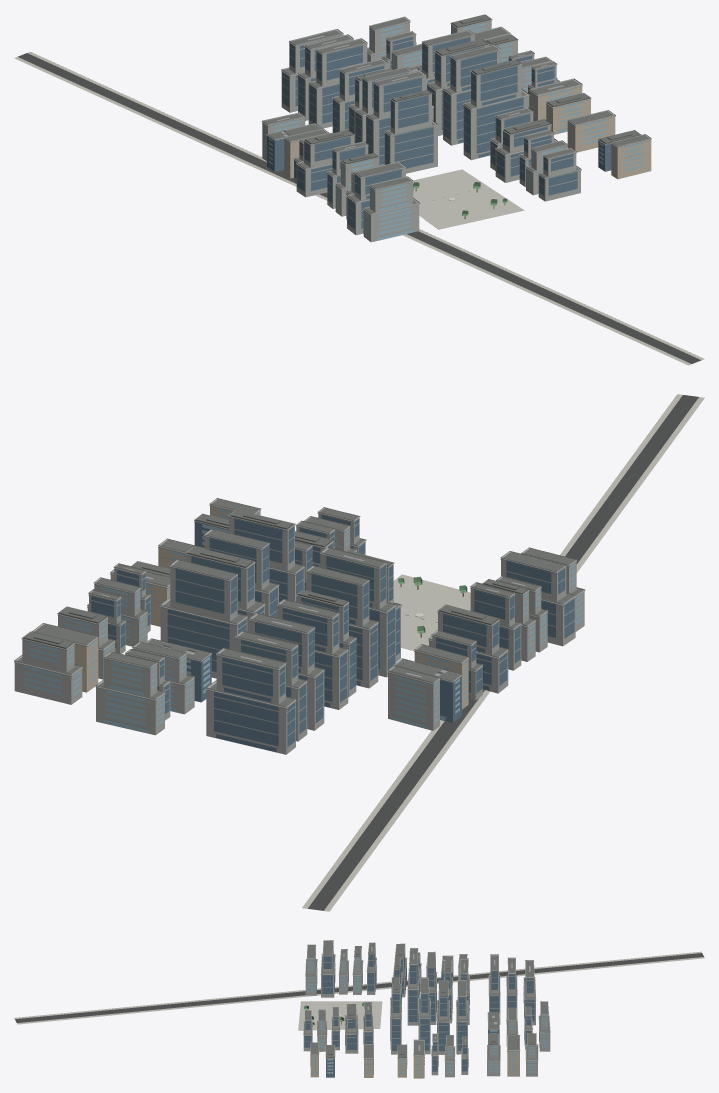
The model's file is tile-p001-m001.glb.
The picture shows the model from 3 angles, top to bottom: view 1: azimuth 30°, elevation 25°; view 2: azimuth 150°, elevation 25°; view 3: azimuth 270°, elevation 25°; orthographic projection. The views are drawn at different scales.
Visible parts, largest first — view 1: road-radial-1-3-mesh-1, plaza-block-218-mesh-2, road-radial-1-3-mesh-0, building-0936-mesh-286, building-0870-mesh-150, building-0936-mesh-292, building-0823-mesh-7, building-1000-mesh-345, building-0998-mesh-335, building-0875-mesh-191, building-0870-mesh-156, building-0935-mesh-281 (+17 smaller); view 2: road-radial-1-3-mesh-1, road-radial-1-3-mesh-0, building-0873-mesh-161, plaza-block-218-mesh-2, building-0933-mesh-253, building-0933-mesh-259, building-0873-mesh-167, building-0828-mesh-64, building-0938-mesh-296, building-0873-mesh-160, building-1008-mesh-412, building-0936-mesh-292 (+20 smaller); view 3: road-radial-1-3-mesh-1, road-radial-1-3-mesh-0, plaza-block-218-mesh-2, building-0869-mesh-138, building-1007-mesh-407, building-0936-mesh-286, building-0935-mesh-275, building-0934-mesh-264, building-1004-mesh-385, building-0824-mesh-19.
Boxes of the visible parts, bbox=[...] form: road-radial-1-3-mesh-1: bbox=[17, 53, 701, 363]; plaza-block-218-mesh-2: bbox=[413, 169, 524, 229]; road-radial-1-3-mesh-0: bbox=[14, 52, 704, 365]; building-0936-mesh-286: bbox=[464, 97, 523, 157]; building-0870-mesh-150: bbox=[385, 126, 433, 168]; building-0936-mesh-292: bbox=[471, 65, 517, 105]; building-0823-mesh-7: bbox=[363, 199, 419, 242]; building-1000-mesh-345: bbox=[611, 136, 651, 179]; building-0998-mesh-335: bbox=[567, 111, 615, 152]; building-0875-mesh-191: bbox=[316, 45, 362, 80]; building-0870-mesh-156: bbox=[391, 95, 428, 128]; building-0935-mesh-281: bbox=[451, 51, 496, 91]; road-radial-1-3-mesh-1: bbox=[308, 395, 698, 910]; road-radial-1-3-mesh-0: bbox=[302, 394, 704, 911]; building-0873-mesh-161: bbox=[214, 692, 295, 751]; plaza-block-218-mesh-2: bbox=[393, 574, 470, 650]; building-0933-mesh-253: bbox=[167, 609, 246, 671]; building-0933-mesh-259: bbox=[175, 568, 236, 614]; building-0873-mesh-167: bbox=[222, 657, 285, 702]; building-0828-mesh-64: bbox=[388, 667, 439, 730]; building-0938-mesh-296: bbox=[96, 681, 164, 735]; building-0873-mesh-160: bbox=[206, 682, 295, 754]; building-1008-mesh-412: bbox=[14, 657, 82, 704]; building-0936-mesh-292: bbox=[234, 518, 294, 563]; road-radial-1-3-mesh-1: bbox=[15, 953, 703, 1022]; road-radial-1-3-mesh-0: bbox=[14, 951, 704, 1024]; plaza-block-218-mesh-2: bbox=[298, 1001, 382, 1030]; building-0869-mesh-138: bbox=[408, 975, 419, 1021]; building-1007-mesh-407: bbox=[507, 1040, 519, 1076]; building-0936-mesh-286: bbox=[390, 1008, 400, 1050]; building-0935-mesh-275: bbox=[418, 1014, 429, 1050]; building-0934-mesh-264: bbox=[437, 1011, 448, 1051]; building-1004-mesh-385: bbox=[413, 1040, 424, 1078]; building-0824-mesh-19: bbox=[322, 963, 335, 993].
Size of the model in its own units: 314 by 69.13 by 721.
